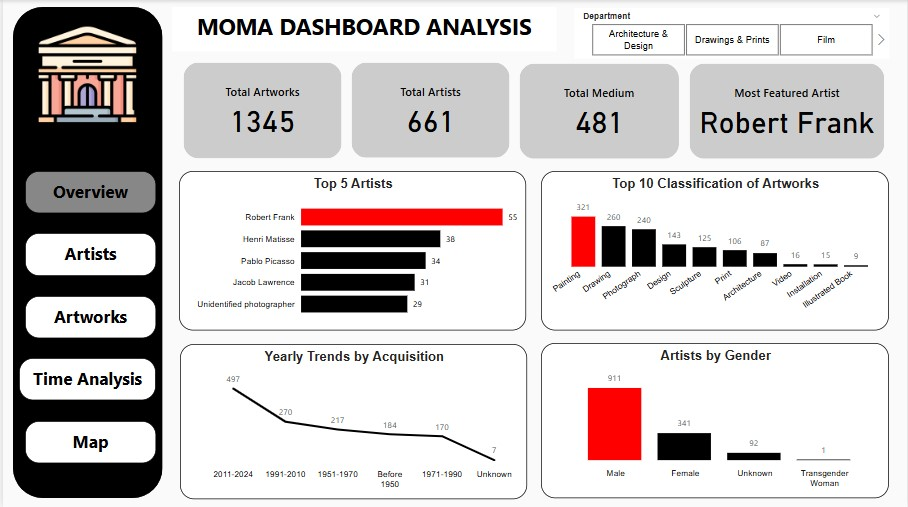

The page's visual inventory and layout, read from the dashboard file:
{"tool":"powerbi","page":{"name":"Overview","canvas":[1280,720],"ordinal":0},"visuals":[{"type":"shape","box":[14.5,10.5,211.8,696.1],"z":0},{"type":"textbox","box":[239.5,10.5,544.7,63.2],"z":1000},{"type":"cardVisual","fields":{"Data":["Calculation.Total Artworks"]},"box":[250.6,83.1,234.9,147],"z":2000},{"type":"cardVisual","fields":{"Data":["Calculation.Total Artist"]},"box":[489.2,83.1,234.9,145.8],"z":3000},{"type":"cardVisual","fields":{"Data":["Calculation.Total Medium"]},"box":[727.7,84.3,236.1,145.8],"z":4000},{"type":"cardVisual","fields":{"Data":["Calculation.Most Featured Artist"]},"box":[967.5,84.3,286.7,145.8],"z":5000},{"type":"barChart","title":"Top 5 Artists","fields":{"Category":["Artists.DisplayName"],"Y":["Calculation.Total Artworks"]},"box":[250,241.9,491.9,225.7],"z":6000},{"type":"columnChart","title":"Top 10 Classification of Artworks","fields":{"Category":["Artworks.Classification"],"Y":["CountNonNull(Artworks.ObjectID)"]},"box":[762.2,241.9,493.2,225.7],"z":7000},{"type":"lineChart","title":"Yearly Trends by Acquisition","fields":{"Category":["Artworks.Acquisition Period"],"Y":["CountNonNull(Artworks.ObjectID)"]},"box":[250.3,487.1,492.2,220.1],"z":8000},{"type":"columnChart","title":"Artists by Gender","fields":{"Category":["Artists.Gender"],"Y":["Calculation.Total Artists"]},"box":[762,486,493,220],"z":9000},{"type":"slicer","fields":{"Values":["Artworks.Department"]},"box":[809.7,11.8,446.8,72.2],"z":10000},{"type":"image","box":[31.2,26.9,177.2,157.3],"z":11000},{"type":"textbox","box":[31.2,242.4,185.7,59.5],"z":12000},{"type":"textbox","box":[31.2,330.2,185.7,60.9],"z":13000},{"type":"textbox","box":[22.7,507.4,194.2,59.5],"z":14000},{"type":"textbox","box":[31.2,596.7,185.7,59.5],"z":15000},{"type":"textbox","box":[31.2,419.5,185.7,59.5],"z":16000},{"type":"actionButton","box":[31.2,242.4,185.7,59.5],"z":17000}]}

Visuals, with their boxes in screenshot pixels (x1, y1, x2, y2), scaled from the page's 1280x720 canvas onto the 908x507 screenshot:
shape: bbox(10, 7, 161, 498)
textbox: bbox(170, 7, 556, 52)
cardVisual - Calculation.Total Artworks: bbox(178, 59, 344, 162)
cardVisual - Calculation.Total Artist: bbox(347, 59, 514, 161)
cardVisual - Calculation.Total Medium: bbox(516, 59, 684, 162)
cardVisual - Calculation.Most Featured Artist: bbox(686, 59, 890, 162)
"Top 5 Artists" barChart: bbox(177, 170, 526, 329)
"Top 10 Classification of Artworks" columnChart: bbox(541, 170, 891, 329)
"Yearly Trends by Acquisition" lineChart: bbox(178, 343, 527, 498)
"Artists by Gender" columnChart: bbox(541, 342, 890, 497)
slicer - Artworks.Department: bbox(574, 8, 891, 59)
image: bbox(22, 19, 148, 130)
textbox: bbox(22, 171, 154, 213)
textbox: bbox(22, 233, 154, 275)
textbox: bbox(16, 357, 154, 399)
textbox: bbox(22, 420, 154, 462)
textbox: bbox(22, 295, 154, 337)
actionButton: bbox(22, 171, 154, 213)
